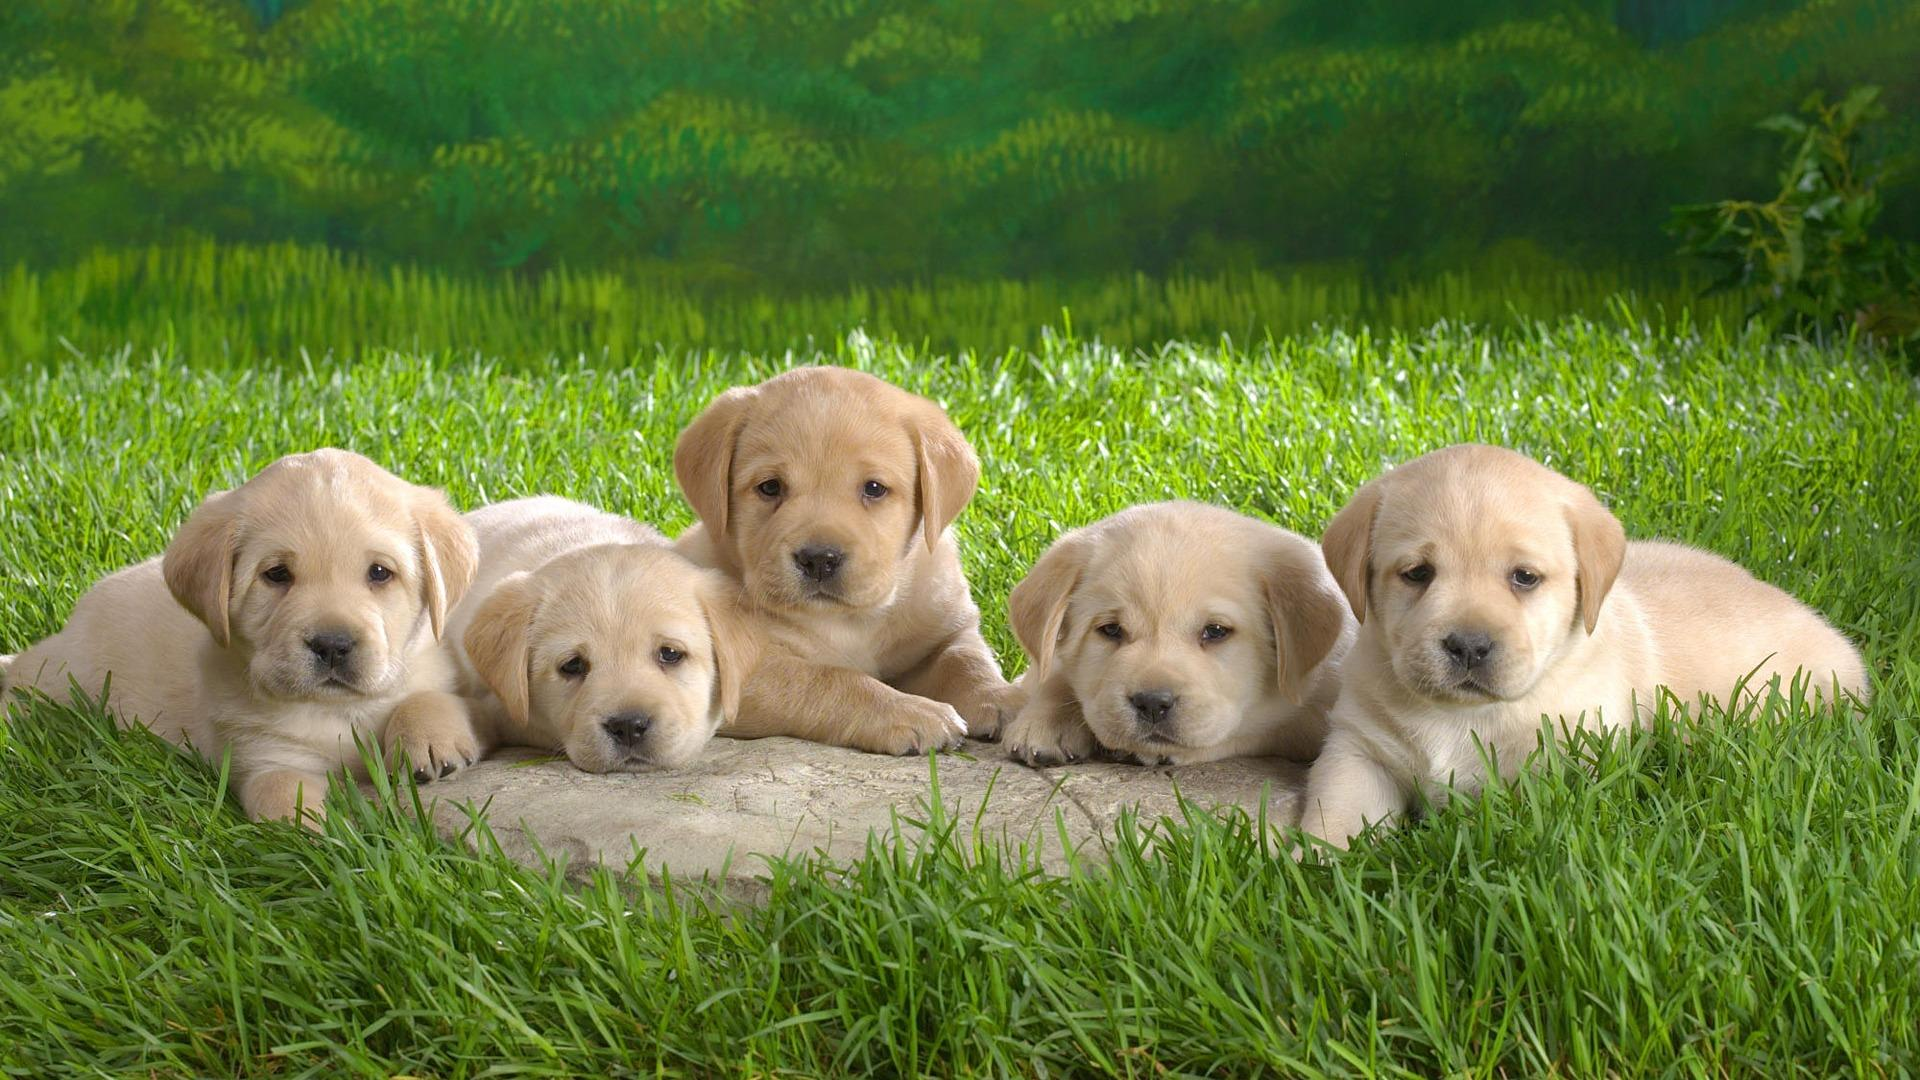dog: (140, 433, 460, 803), (1309, 422, 1643, 709), (1013, 508, 1356, 773), (698, 352, 996, 630), (472, 463, 740, 765)
